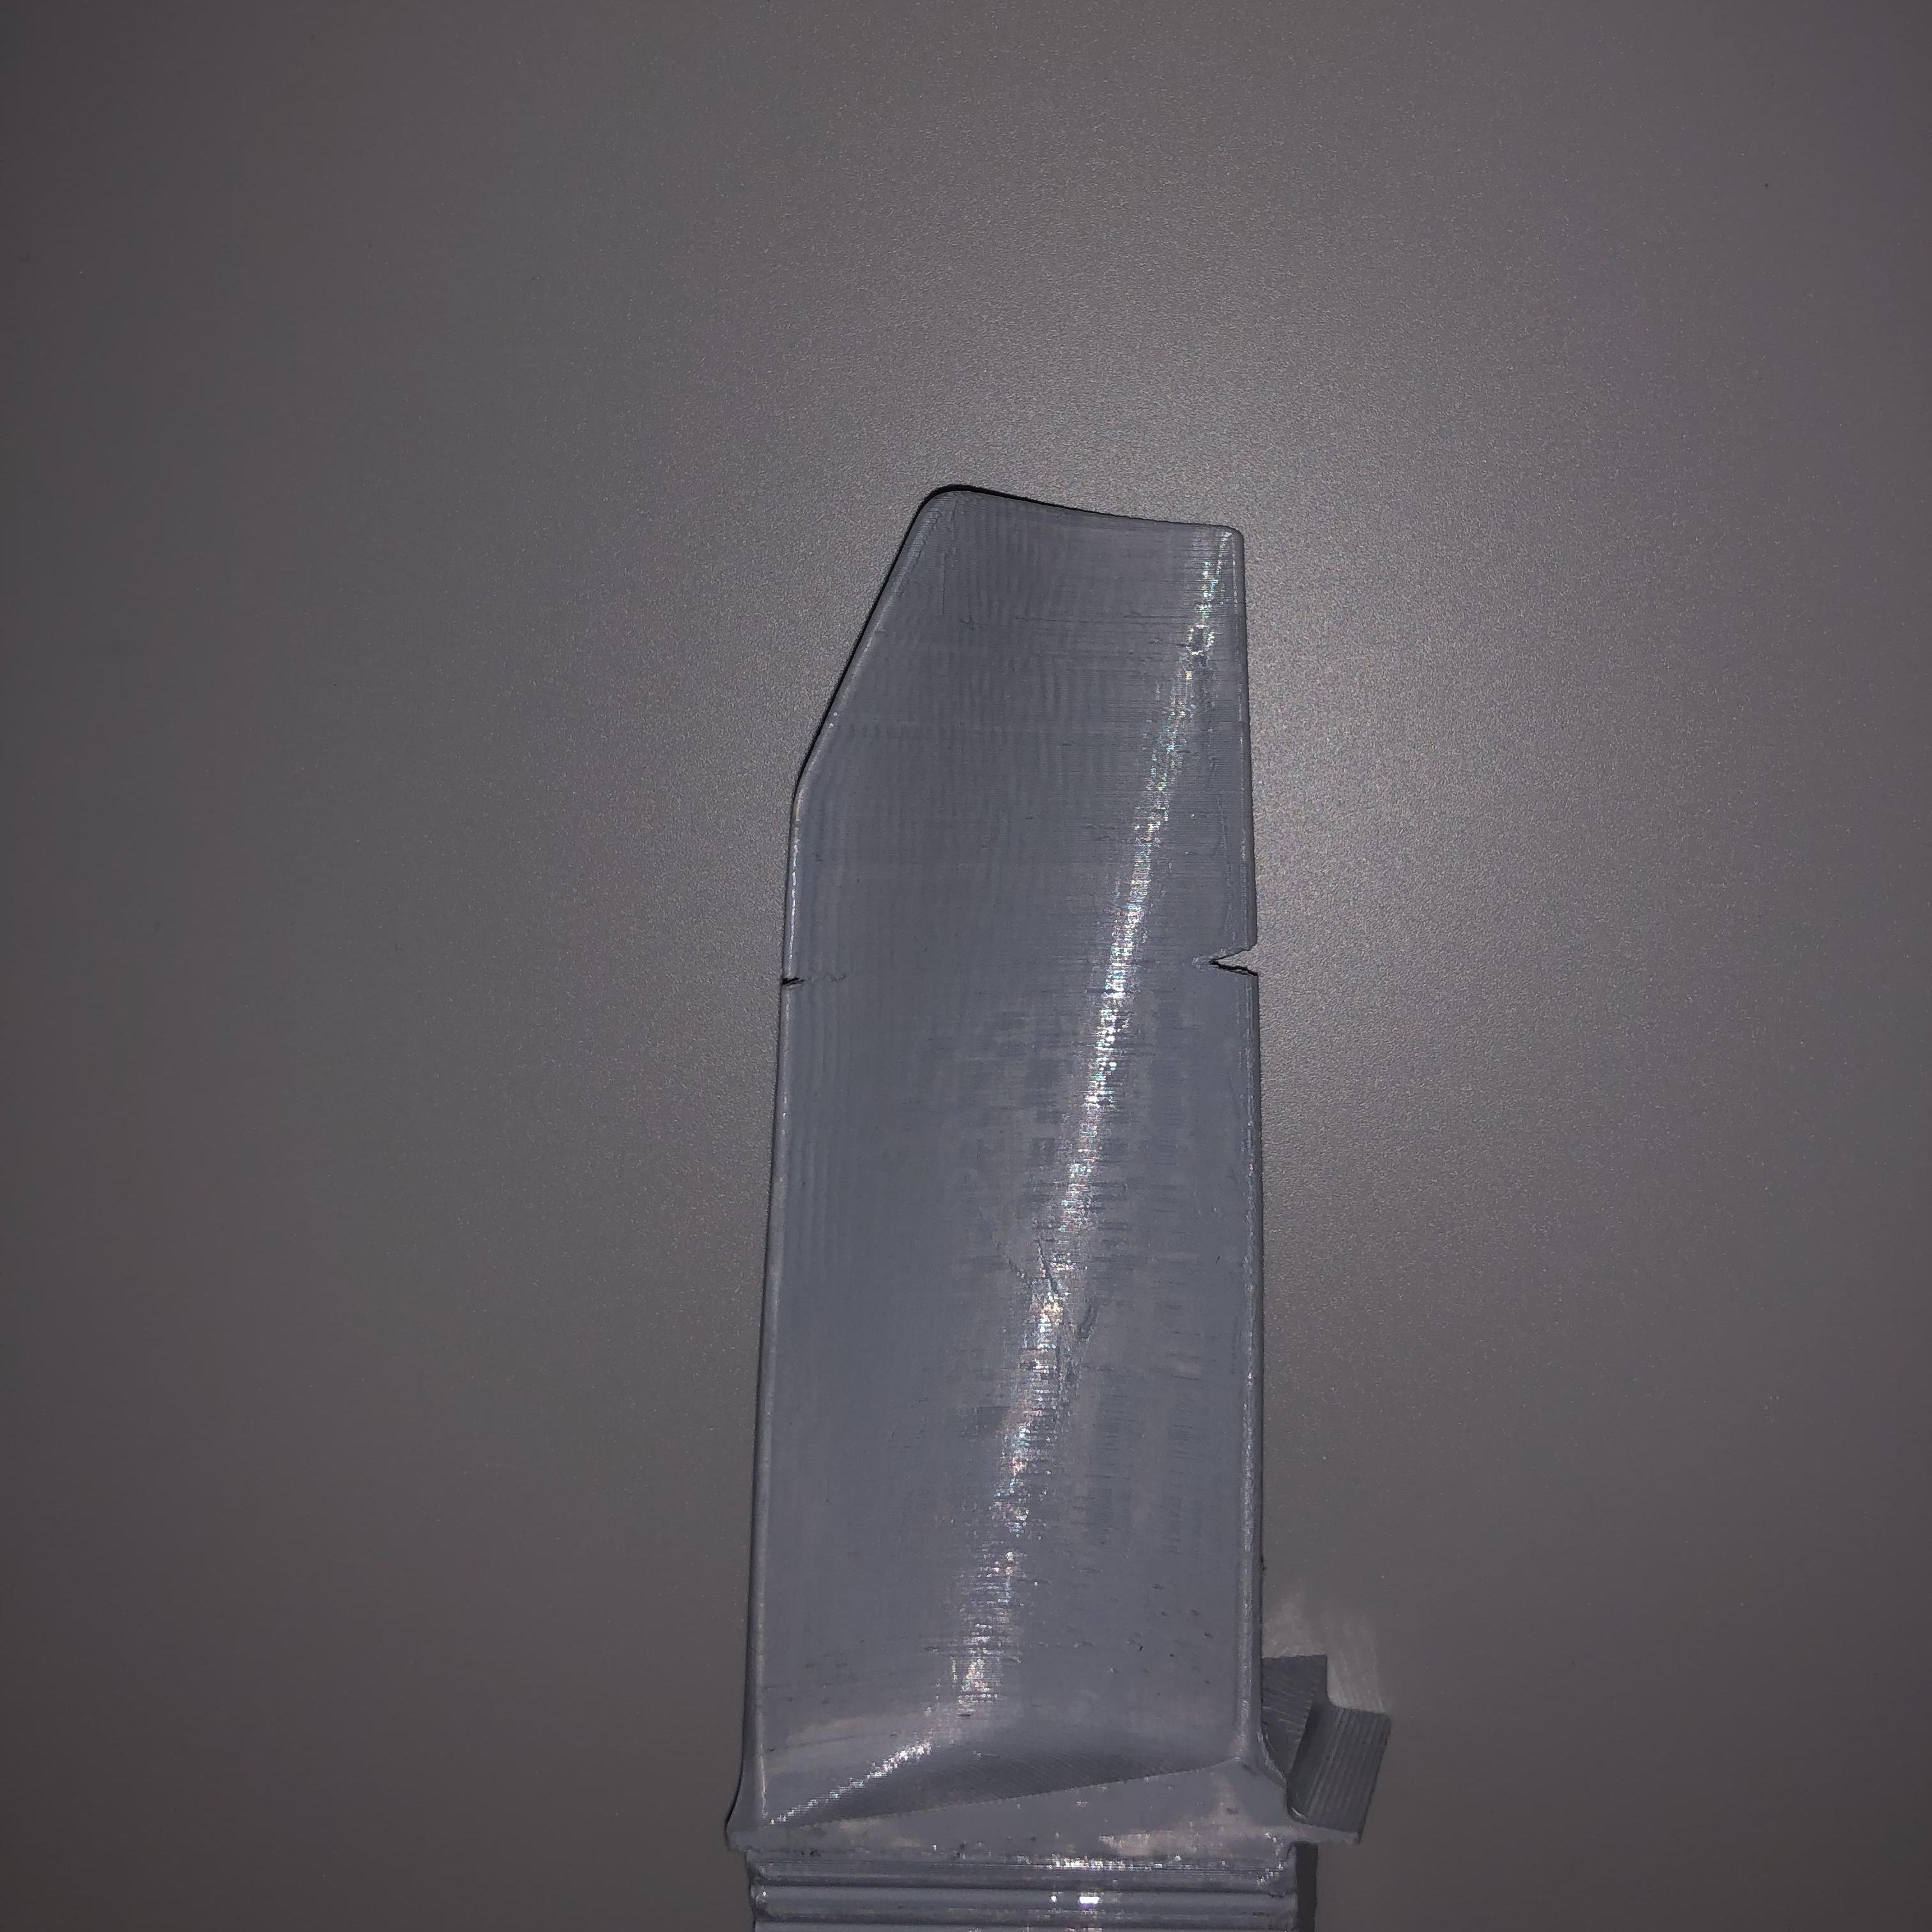groove: (1203, 938, 1265, 982), (778, 964, 817, 989)
